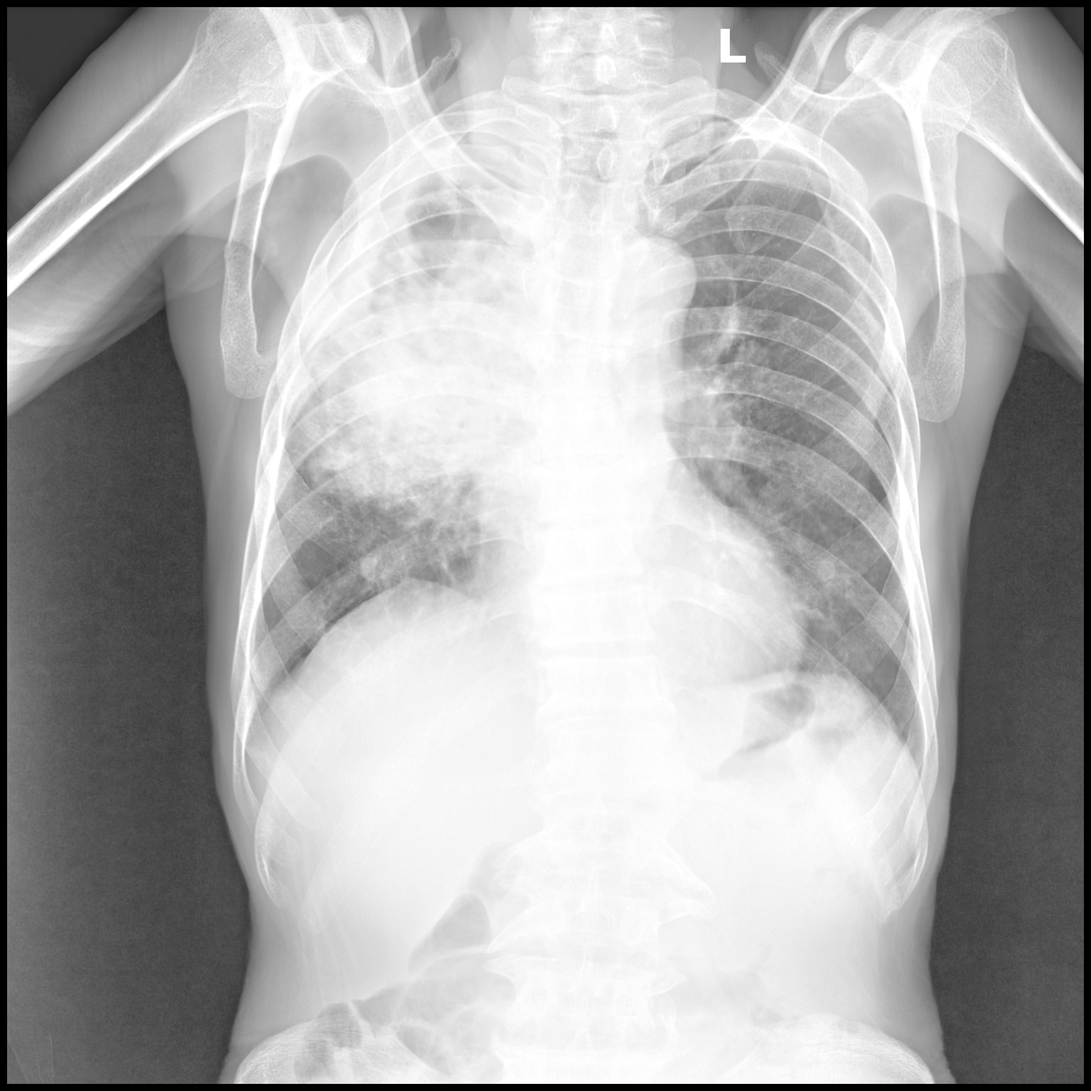Pleural thickening: (225, 666, 276, 782)
